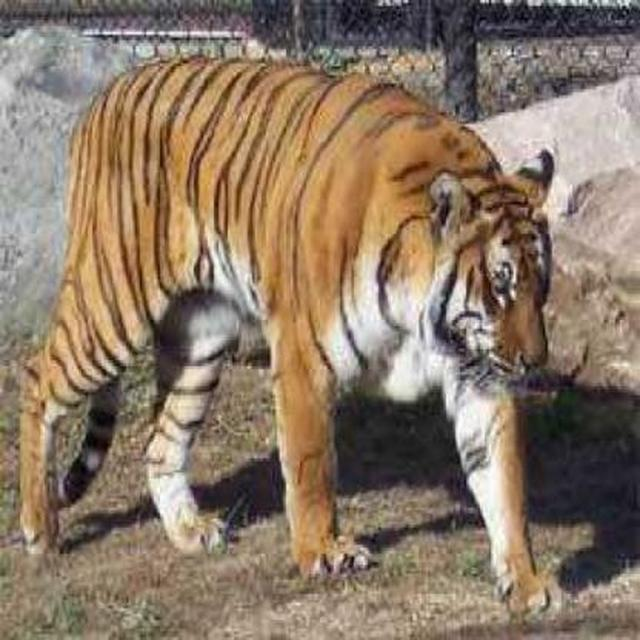tiger: (15, 51, 564, 621)
